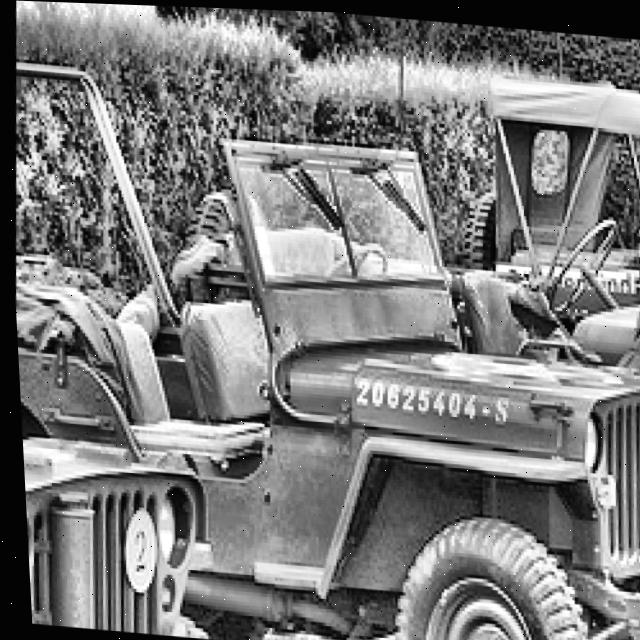light_vehicle: (2, 58, 640, 640), (6, 150, 334, 640), (417, 55, 640, 640)
